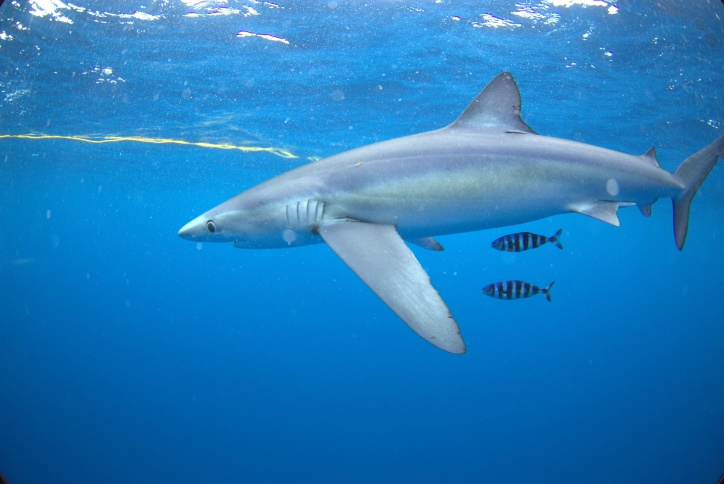Azul: (164, 61, 724, 362)
